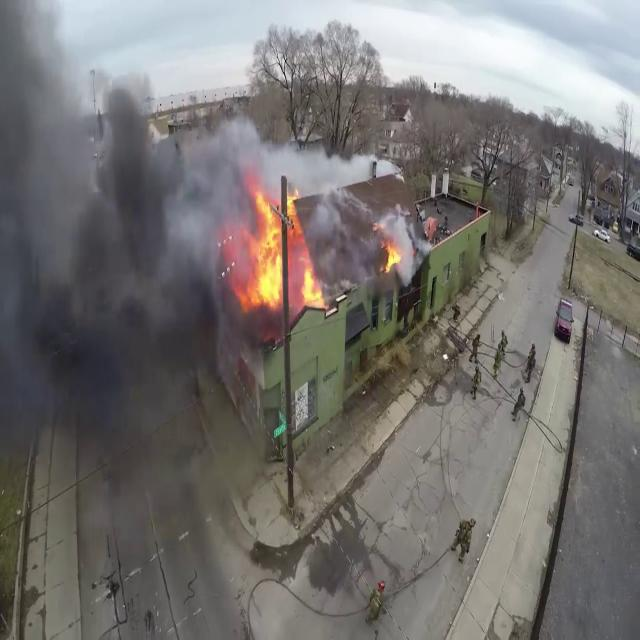Fire: (239, 183, 321, 315), (381, 238, 404, 279)
Smoke: (0, 43, 256, 370)
